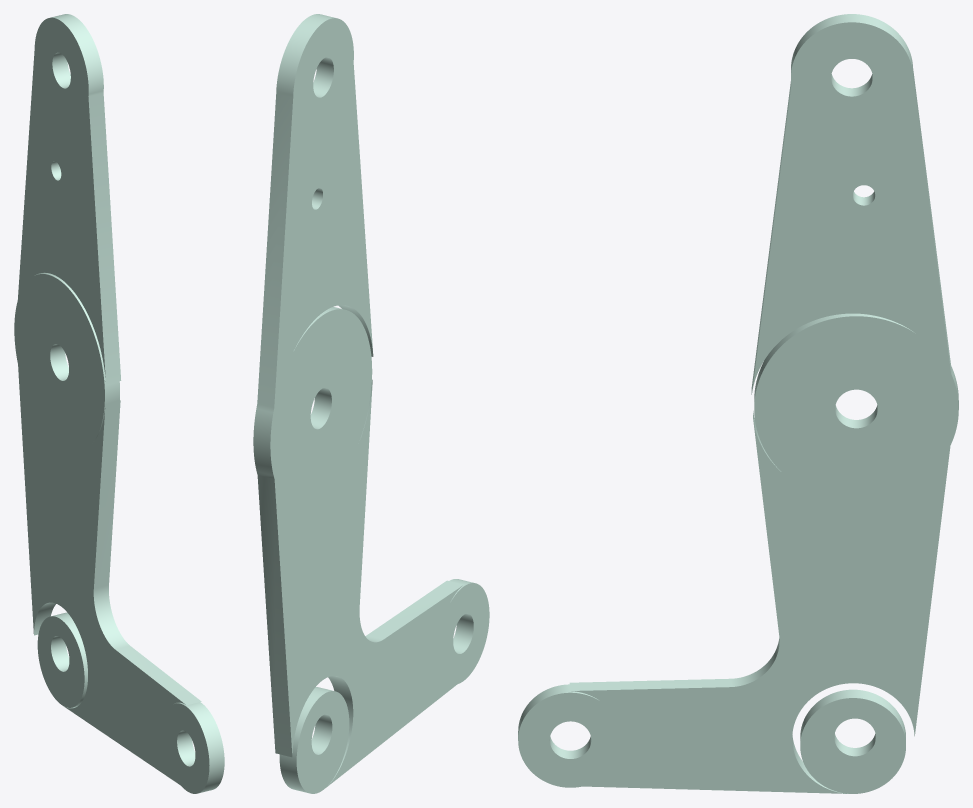
3 views of the same model, side by side, from view 1: azimuth 30°, elevation 25°; view 2: azimuth 150°, elevation 25°; view 3: azimuth 270°, elevation 25° (orthographic). The views are drawn at different scales.
Parts seen in each view (by area): view 1: Renderer Node; view 2: Renderer Node; view 3: Renderer Node.
Part boxes in pixels (bbox=[...]): Renderer Node: bbox=[14, 14, 224, 793]; Renderer Node: bbox=[253, 14, 489, 793]; Renderer Node: bbox=[518, 14, 958, 793].
Size of the model in its own units: 0.0313 by 1.35 by 0.697.
